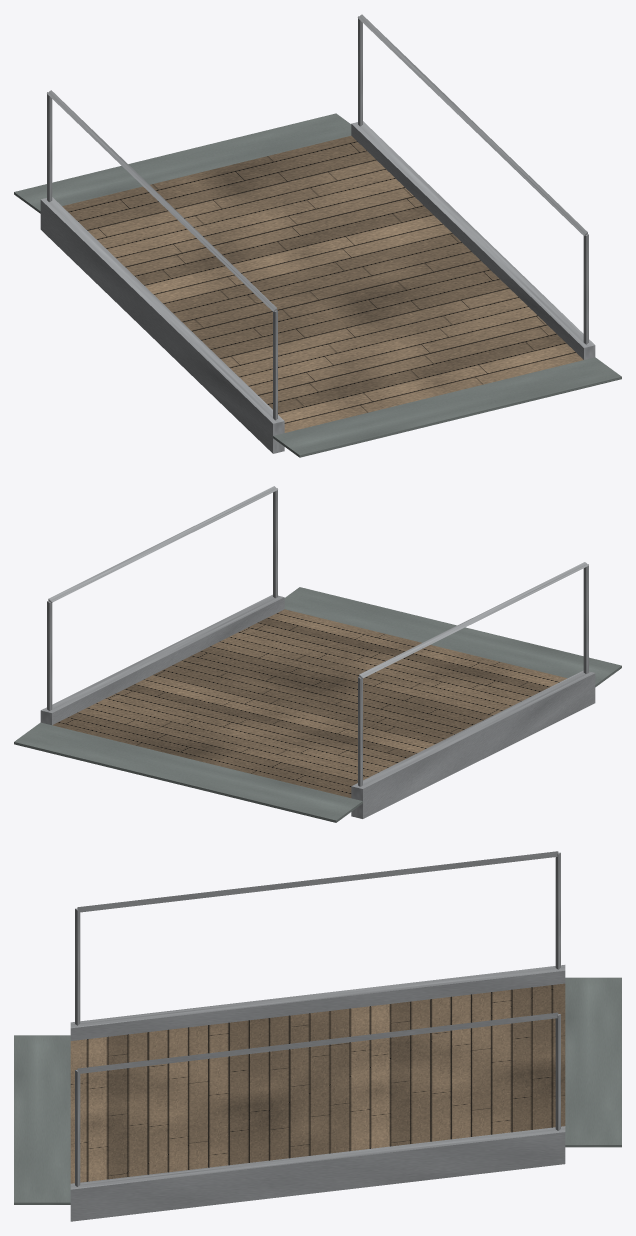
File: SM_Morin_Marina_Passerella_LOD2.fbx
The picture shows the model from 3 angles, top to bottom: view 1: azimuth 30°, elevation 25°; view 2: azimuth 150°, elevation 25°; view 3: azimuth 270°, elevation 25°; orthographic projection. The views are drawn at different scales.
Parts seen in each view (by area): view 1: SM_Morin_Marina_Passerella_LOD2; view 2: SM_Morin_Marina_Passerella_LOD2; view 3: SM_Morin_Marina_Passerella_LOD2.
Boxes of the visible parts, box(x1,y1,x2,y2) form: SM_Morin_Marina_Passerella_LOD2: box(14, 14, 621, 457); SM_Morin_Marina_Passerella_LOD2: box(14, 486, 621, 822); SM_Morin_Marina_Passerella_LOD2: box(14, 851, 621, 1221).
Bounding box in the file's own units: 280 × 430 × 162.
Materials: 2 (2 with a texture image).
